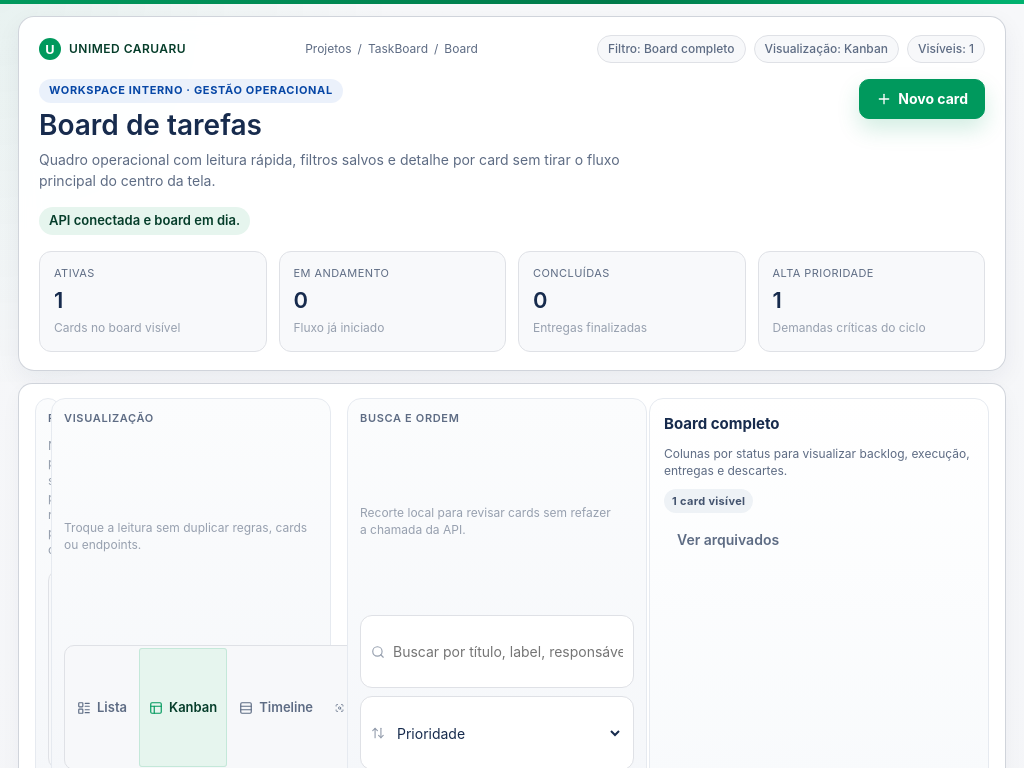
App shell states › opens the create modal from the primary header action
The image size is (1024, 768).
Click the button "Novo card": {"x": 922, "y": 99} [859, 79, 985, 119]
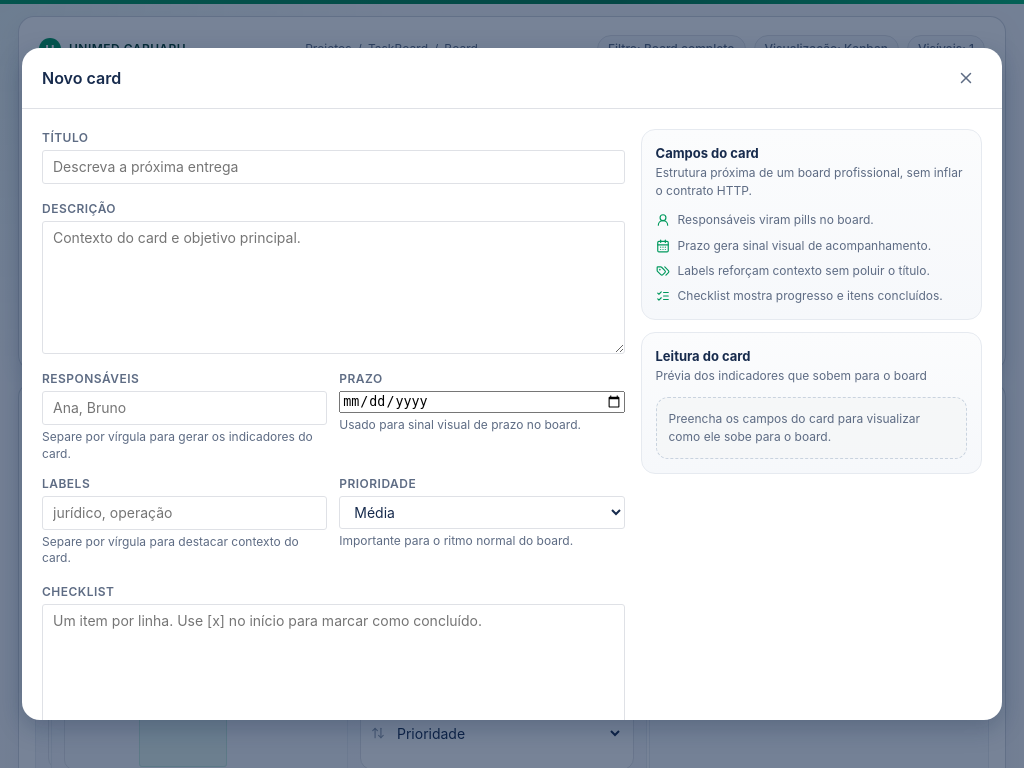
Result: the dialog named "Criar novo card" is shown
